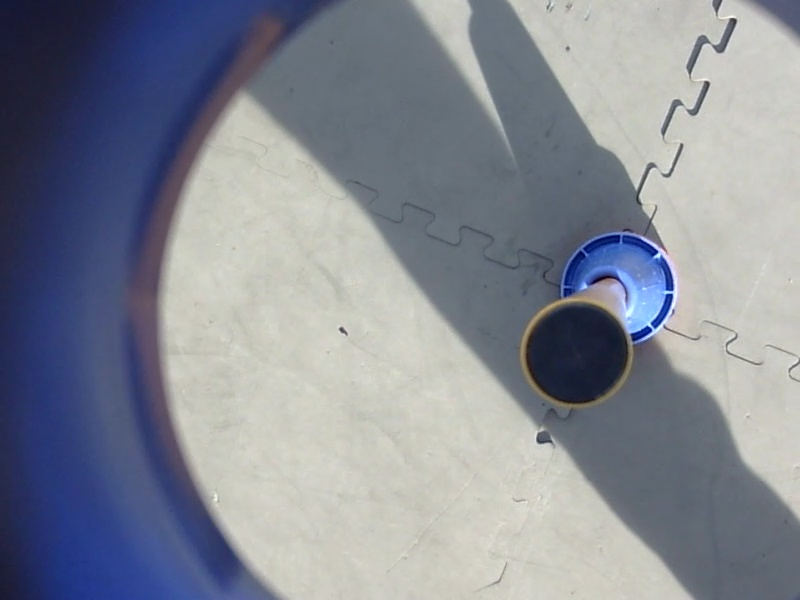tip: (516, 292, 637, 410)
